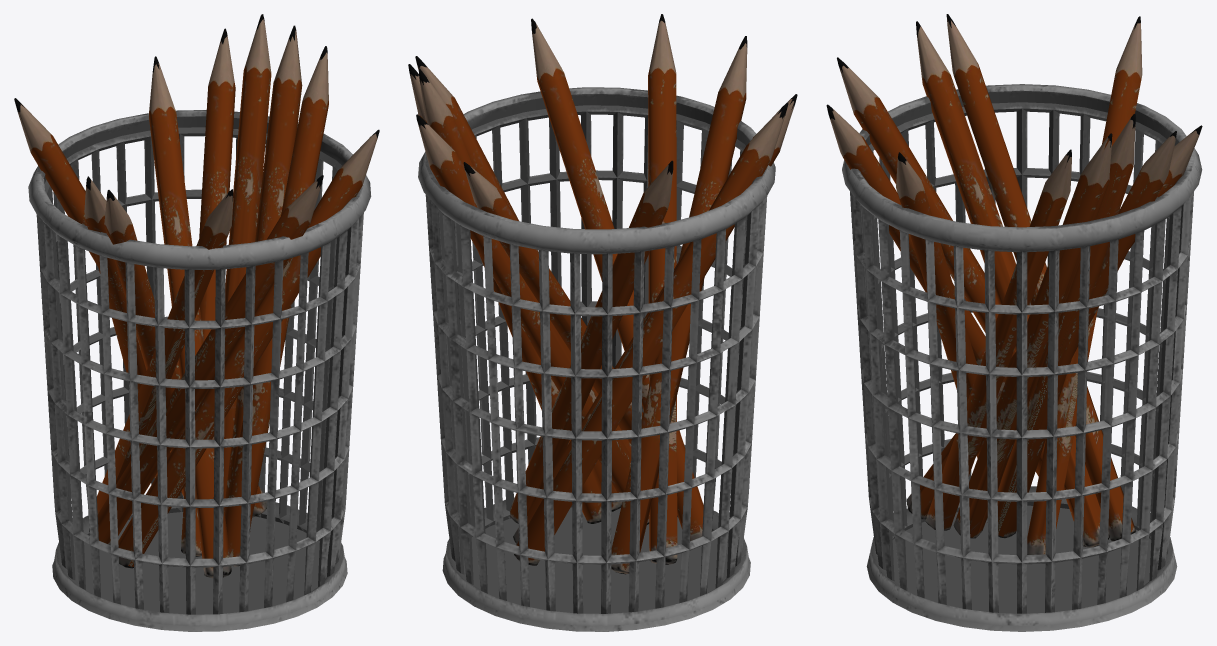
File: pencil-cup.glb
The picture shows the model from 3 angles, left to right: view 1: azimuth 30°, elevation 25°; view 2: azimuth 150°, elevation 25°; view 3: azimuth 270°, elevation 25°; orthographic projection. The views are drawn at different scales.
Parts seen in each view (by area): view 1: Pencil_Holder_PencilHolder.001_0, Pencils_pencil_0; view 2: Pencil_Holder_PencilHolder.001_0, Pencils_pencil_0; view 3: Pencil_Holder_PencilHolder.001_0, Pencils_pencil_0.
Part boxes in pixels (left/top/right/bottom): Pencil_Holder_PencilHolder.001_0: left=28, top=110, right=371, bottom=631; Pencils_pencil_0: left=14, top=14, right=379, bottom=578; Pencil_Holder_PencilHolder.001_0: left=418, top=87, right=775, bottom=631; Pencils_pencil_0: left=408, top=14, right=797, bottom=574; Pencil_Holder_PencilHolder.001_0: left=842, top=84, right=1202, bottom=631; Pencils_pencil_0: left=826, top=14, right=1202, bottom=554.
Bounding box in the file's own units: 0.3055 × 0.4765 × 0.3169.
2 materials, 2 textured.
